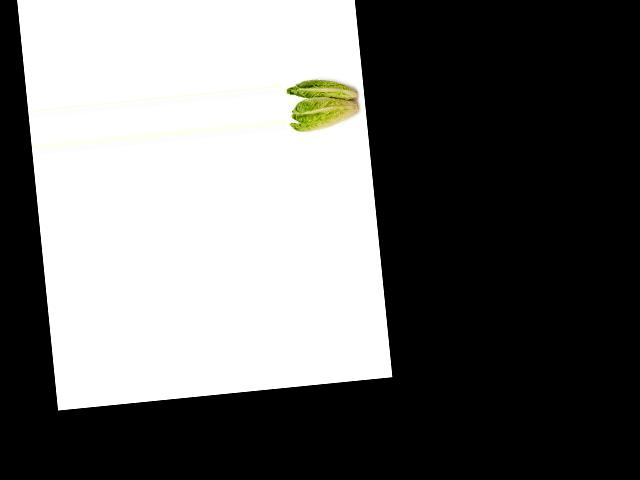lettuce: (284, 68, 362, 107)
